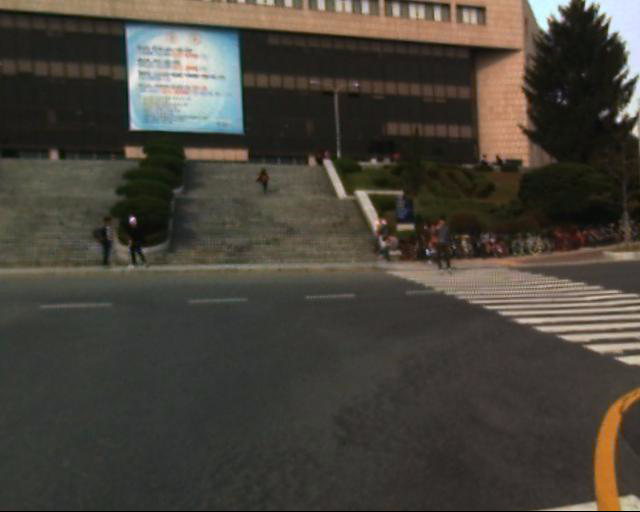person: (392, 212, 439, 270), (246, 156, 279, 209), (118, 216, 142, 274), (430, 214, 453, 274), (93, 221, 118, 268), (371, 215, 392, 266)
